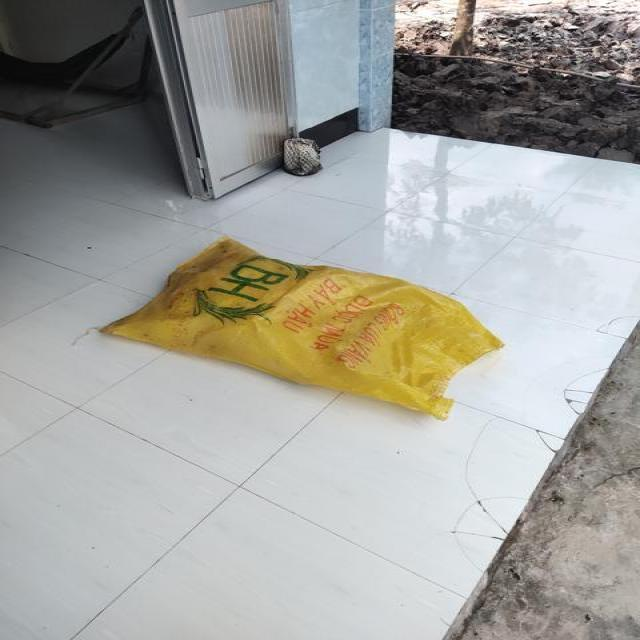gunny_bag: (100, 237, 503, 419)
